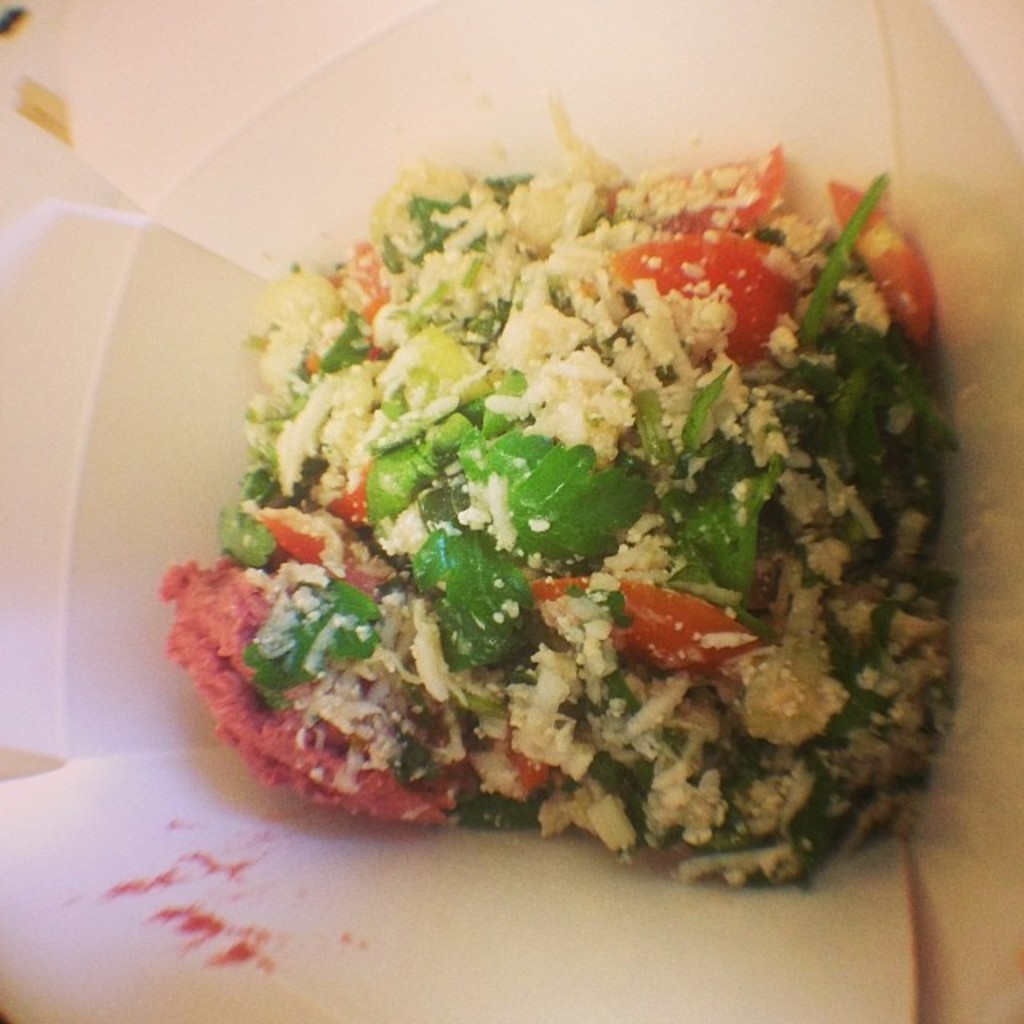salad: (154, 80, 979, 915)
